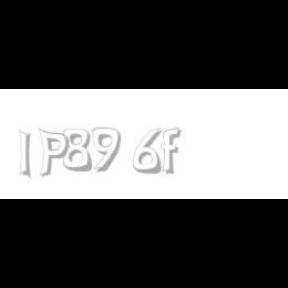6: (132, 128, 162, 176)
8: (64, 128, 92, 172)
9: (92, 128, 120, 172)
I: (18, 128, 32, 180)
P: (37, 128, 69, 178)
f: (161, 128, 185, 174)
